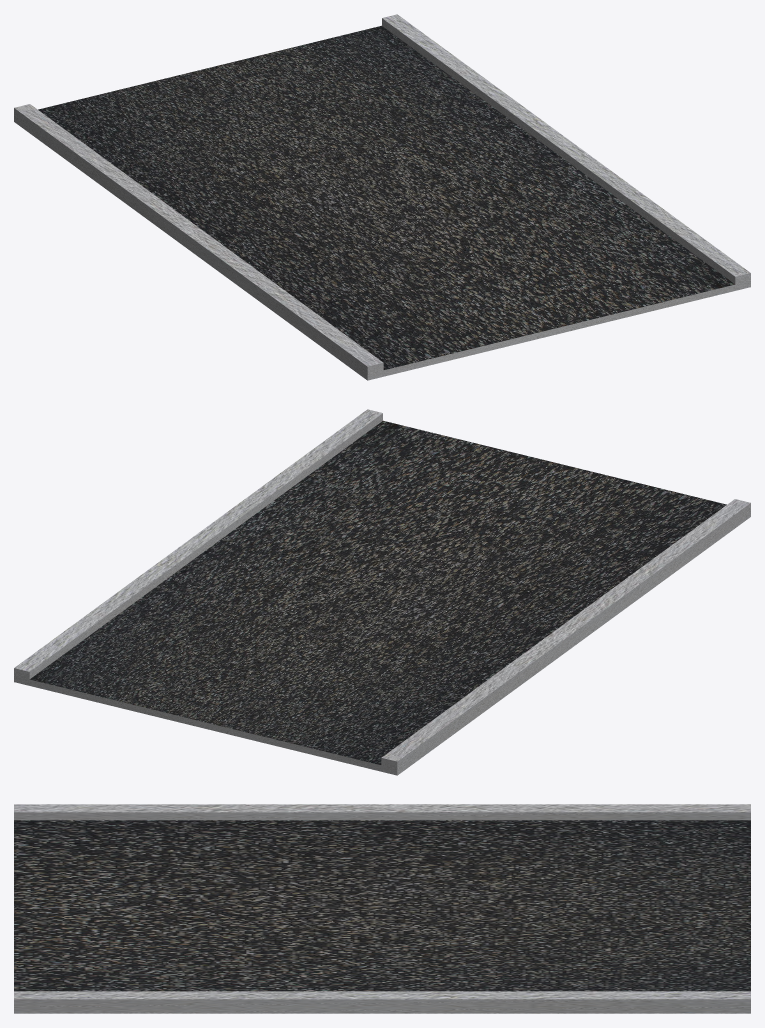
File: calle.obj
3 views of the same model, one above another, from view 1: azimuth 30°, elevation 25°; view 2: azimuth 150°, elevation 25°; view 3: azimuth 270°, elevation 25° (orthographic). The views are drawn at different scales.
Parts seen in each view (by area): view 1: carretera; view 2: carretera; view 3: carretera.
Boxes of the visible parts, x1,y1,x2,y2 form: carretera: [14, 14, 750, 380]; carretera: [14, 409, 750, 775]; carretera: [14, 804, 750, 1013].
Bounding box in the file's own units: 12.52 × 0.4368 × 20.
Materials: 2 (2 with a texture image).
